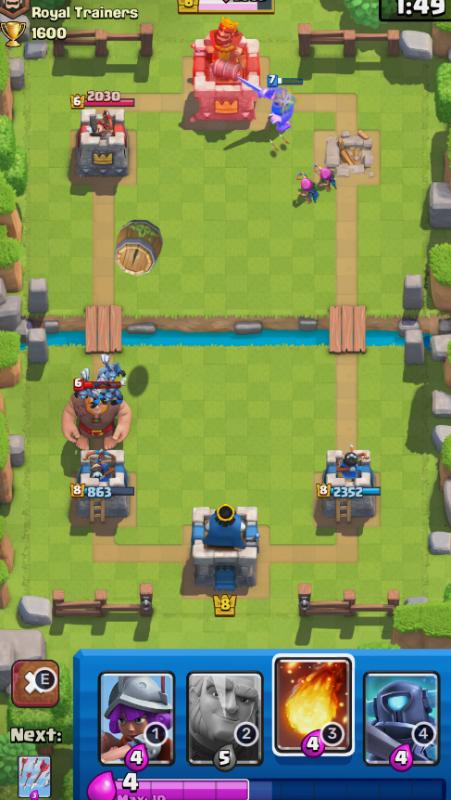archere: (311, 159, 348, 199), (290, 169, 324, 211)
chevalier: (259, 75, 302, 147)
gargouille: (91, 359, 140, 390), (88, 376, 120, 405), (69, 376, 94, 404)
geant: (65, 381, 138, 471)
